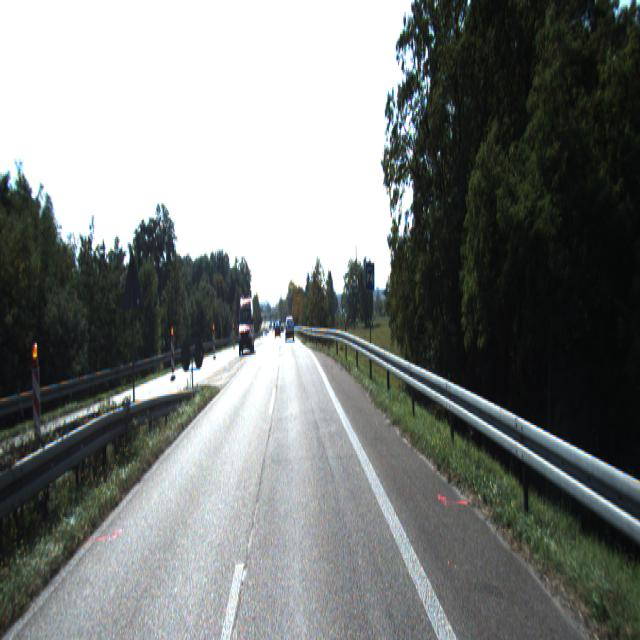Car: (237, 296, 255, 358), (285, 318, 294, 342)
